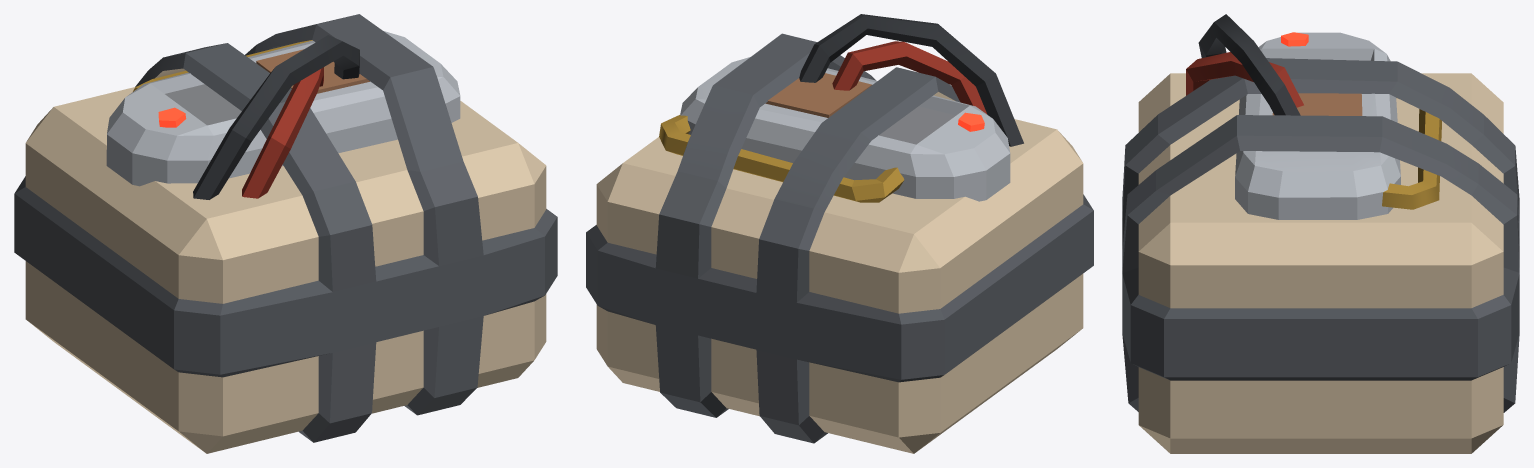
The model's file is SM_Prop_Bomb_Small_01.fbx.
3 renders of one model, left to right at view 1: azimuth 30°, elevation 25°; view 2: azimuth 150°, elevation 25°; view 3: azimuth 270°, elevation 25°, orthographic. The views are drawn at different scales.
Parts seen in each view (by area): view 1: SM_Prop_Bomb_Small_01; view 2: SM_Prop_Bomb_Small_01; view 3: SM_Prop_Bomb_Small_01.
Part boxes in pixels (box(x1,y1,x2,y2)): SM_Prop_Bomb_Small_01: box(14, 14, 557, 453); SM_Prop_Bomb_Small_01: box(586, 14, 1093, 453); SM_Prop_Bomb_Small_01: box(1122, 14, 1519, 453).
Size of the model in its own units: 43.23 by 38.44 by 39.47.
